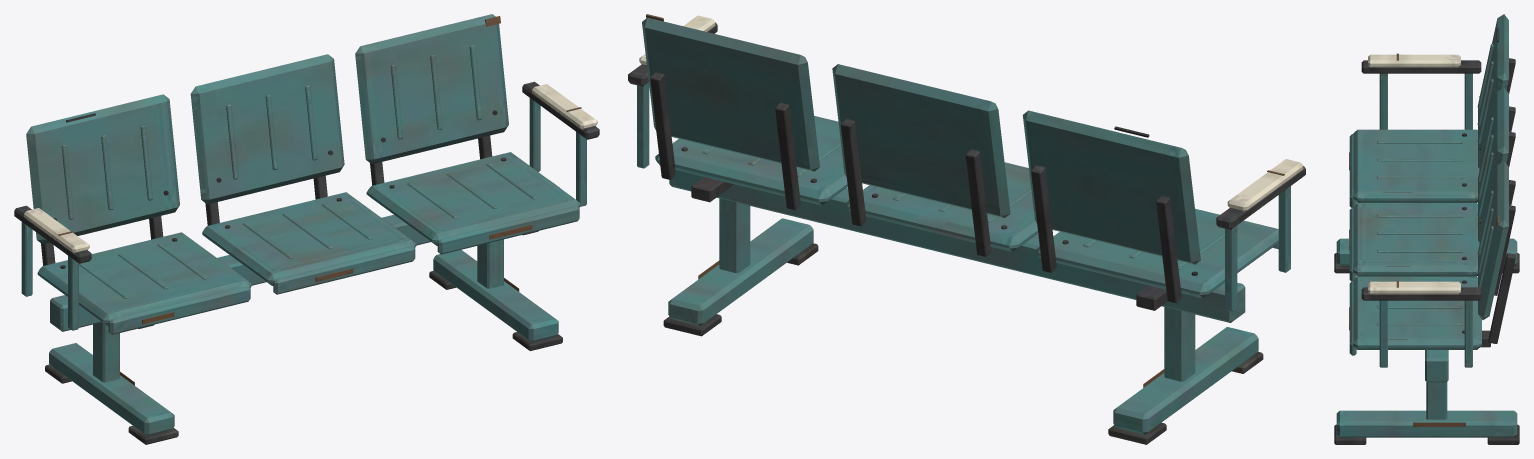
The model's file is HE06_waiting_room_bench.glb.
The picture shows the model from 3 angles, left to right: view 1: azimuth 30°, elevation 25°; view 2: azimuth 150°, elevation 25°; view 3: azimuth 270°, elevation 25°; orthographic projection. The views are drawn at different scales.
Visible parts, largest first — view 1: Continuous rectangular support beam; view 2: Continuous rectangular support beam; view 3: Continuous rectangular support beam.
Boxes of the visible parts, box(x1,y1,x2,y2) form: Continuous rectangular support beam: box(14, 14, 599, 444); Continuous rectangular support beam: box(628, 14, 1305, 444); Continuous rectangular support beam: box(1334, 14, 1519, 444).
Bounding box in the file's own units: 2 × 0.9366 × 0.6663.
5 materials, 5 textured.
